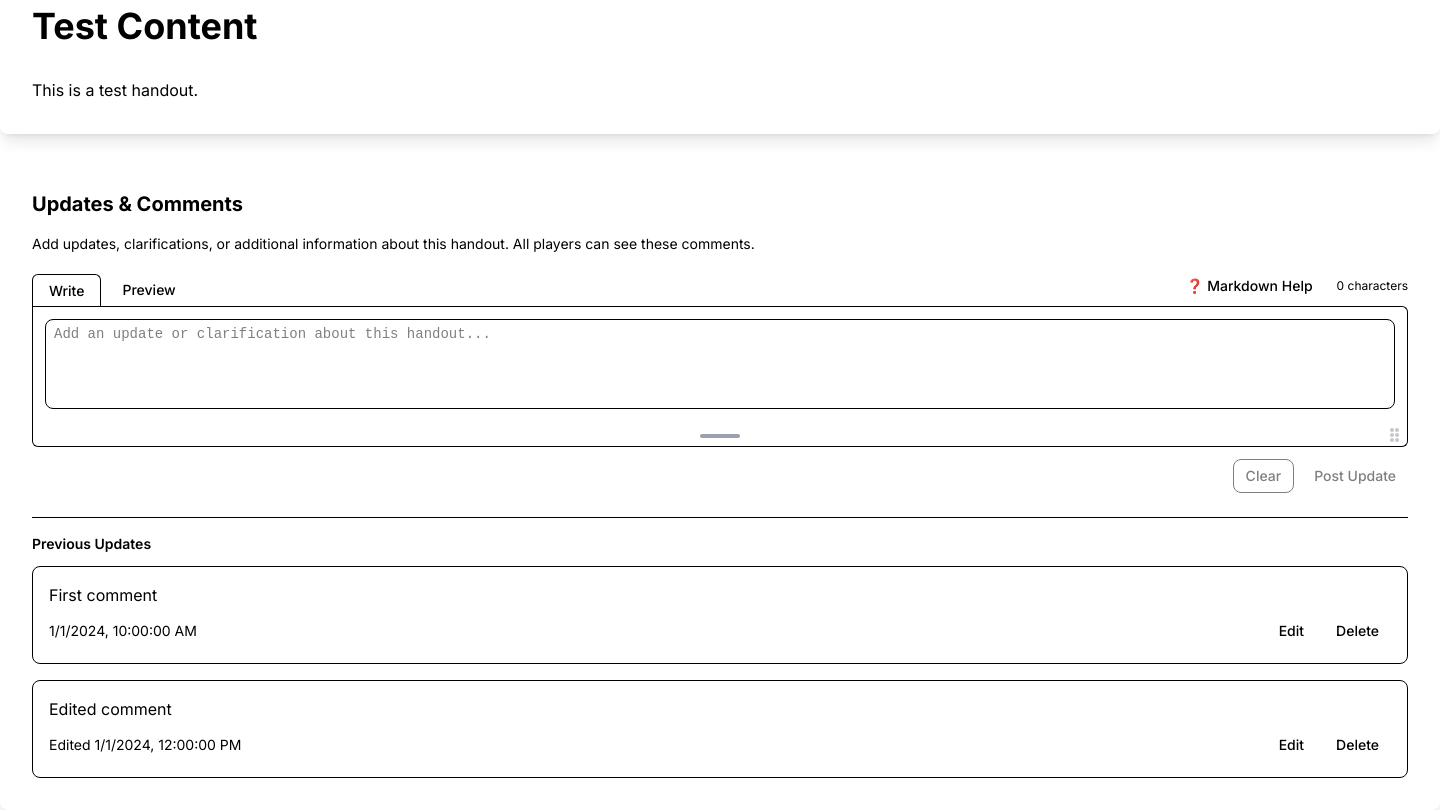
Test: HandoutView › Edit Mode › shows inline editor when edit button clicked
(page scrolled)
Expected: the text "First comment" is shown, [49,585,157,605]
Click the button "Edit" in the row of "1/1/2024, 10:00:00 AM".
click(1291, 631)  # box [1267,615,1316,647]
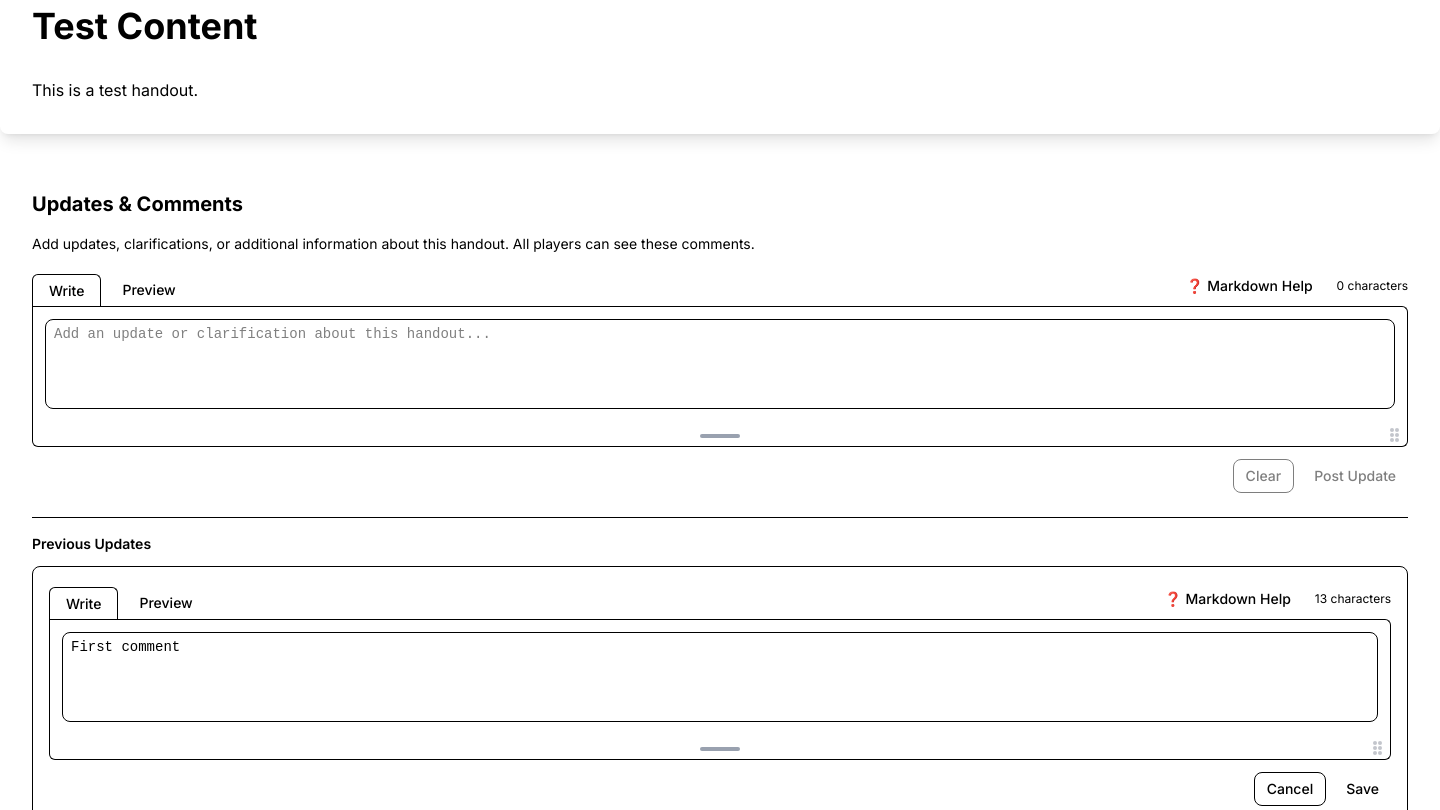
Expected: the button "Save" is shown, [1334,772,1391,806]
Expected: the button "Cancel" is shown, [1254,772,1326,806]
